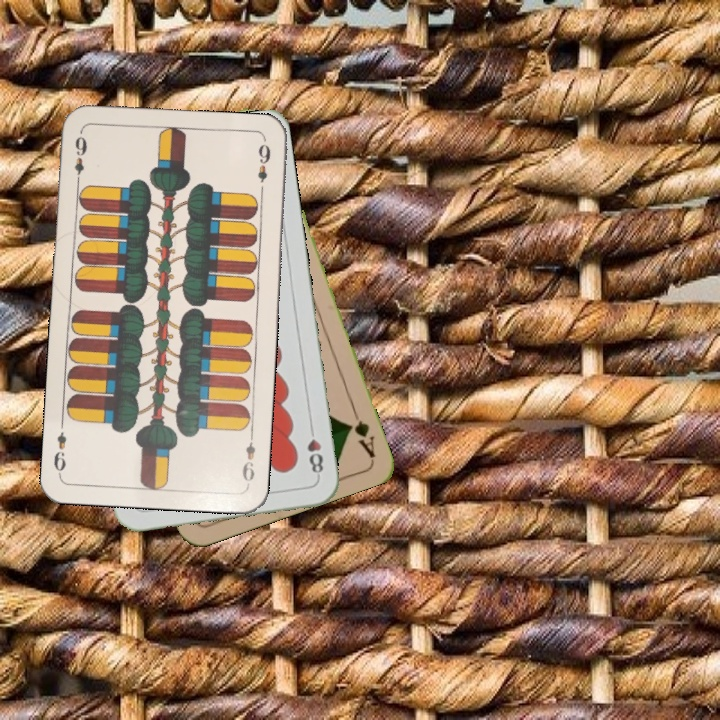E9: (238, 429, 258, 488), (70, 132, 90, 188)
GA: (344, 403, 378, 460)
H8: (303, 421, 326, 480)
